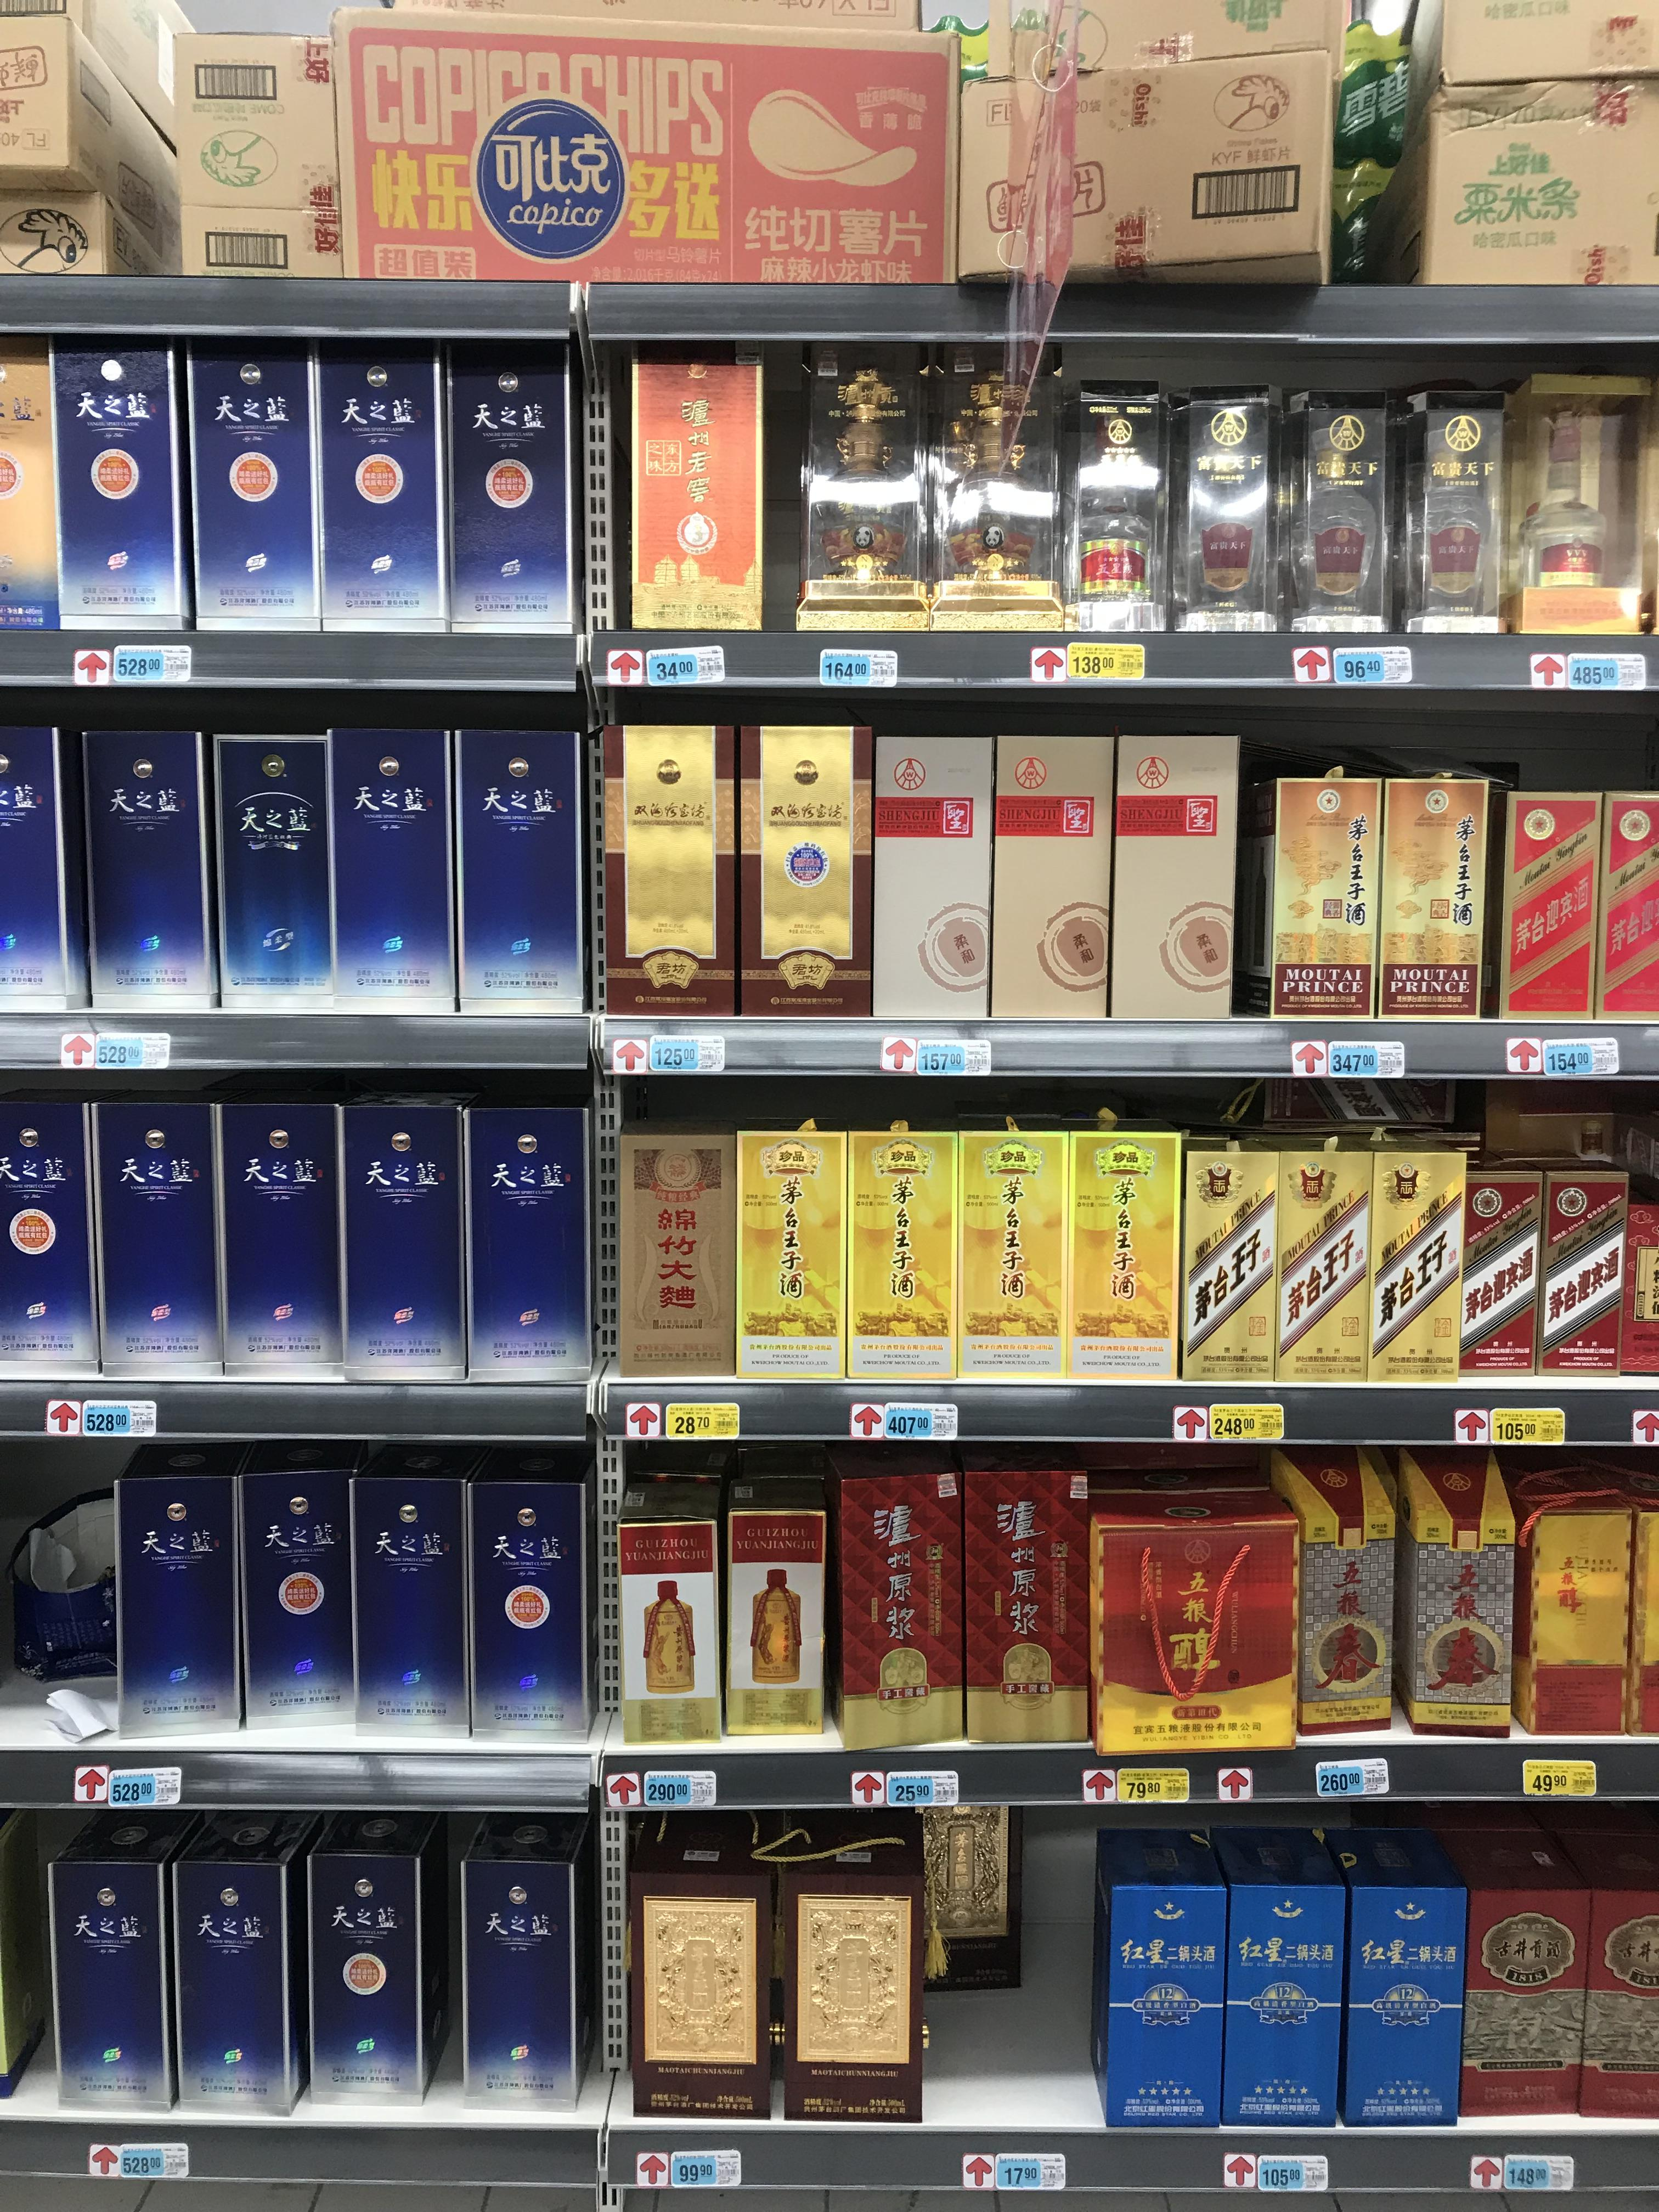bag: (1094, 1484, 1309, 1743), (610, 329, 762, 636), (78, 721, 221, 1014), (957, 1458, 1098, 1747), (1255, 1437, 1394, 1726), (1215, 1836, 1344, 2141), (1100, 1829, 1220, 2144), (1338, 1850, 1464, 2137), (1398, 1432, 1516, 1726), (237, 1432, 352, 1728), (802, 340, 918, 625), (936, 385, 1051, 625), (1513, 1165, 1633, 1376), (1060, 394, 1162, 629), (1438, 1177, 1542, 1372), (1561, 1174, 1654, 1378)
bottle: (775, 1824, 917, 2139), (617, 1818, 760, 2118), (293, 1817, 437, 2104), (446, 1817, 589, 2104), (336, 1080, 469, 1372), (167, 1817, 298, 2113), (108, 1428, 232, 1735), (42, 1829, 174, 2111), (1176, 394, 1272, 631), (1286, 401, 1382, 629)
box: (329, 7, 955, 300), (960, 51, 1338, 296), (171, 26, 345, 294), (178, 336, 331, 641), (44, 336, 193, 637), (312, 334, 458, 641), (469, 1082, 612, 1386), (216, 1071, 356, 1381), (455, 726, 592, 1026), (831, 1444, 967, 1747), (349, 1437, 479, 1747), (446, 334, 579, 639), (599, 721, 734, 1014), (331, 725, 464, 1021), (479, 1439, 598, 1750), (94, 1087, 216, 1386), (1514, 1446, 1642, 1731), (983, 732, 1108, 1012), (1108, 740, 1236, 1014), (739, 728, 861, 1008), (1363, 768, 1495, 1021), (943, 1115, 1075, 1364), (220, 719, 335, 1000), (875, 737, 983, 1021), (1258, 1111, 1375, 1372), (2, 1085, 101, 1390), (1269, 766, 1387, 1019), (1485, 784, 1607, 1028), (723, 1442, 824, 1735), (1173, 1123, 1290, 1376), (1065, 1122, 1182, 1364), (838, 1118, 951, 1362), (619, 1458, 716, 1737), (735, 1125, 847, 1366), (1358, 1134, 1469, 1371), (626, 1137, 741, 1366), (5, 718, 91, 1021), (1403, 388, 1504, 631), (910, 1801, 1026, 1996), (1588, 784, 1657, 1033)
others: (1401, 59, 1657, 298), (3, 35, 173, 289), (1445, 1843, 1593, 2111), (1507, 376, 1628, 622), (1574, 1848, 1657, 2121)
